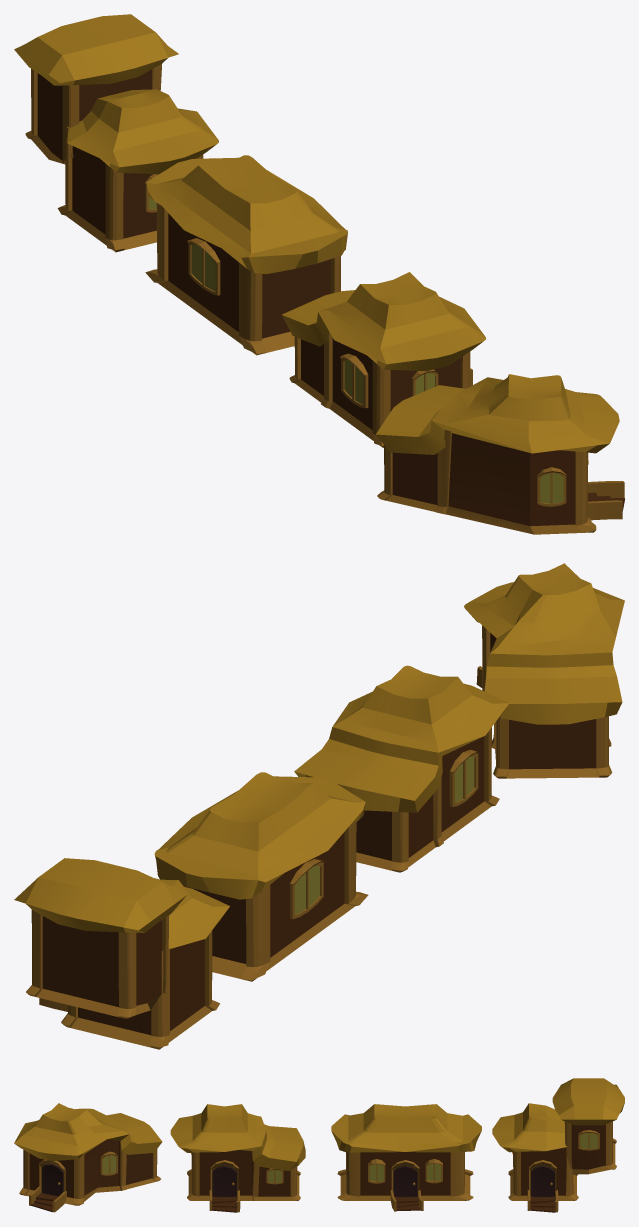
File: crowIslandHouses.fbx
The picture shows the model from 3 angles, top to bottom: view 1: azimuth 30°, elevation 25°; view 2: azimuth 150°, elevation 25°; view 3: azimuth 270°, elevation 25°; orthographic projection. The views are drawn at different scales.
Visible parts, largest first — view 1: house3, house4, house2, house1; view 2: house4, house2, house1, house3; view 3: house2, house4, house3, house1.
Boxes of the visible parts, <box> form: house3: <box>376,374,624,534</box>; house4: <box>14,14,218,252</box>; house2: <box>145,155,347,355</box>; house1: <box>282,272,485,447</box>; house4: <box>14,858,229,1049</box>; house2: <box>154,772,368,981</box>; house1: <box>294,665,509,872</box>; house3: <box>464,563,624,778</box>; house2: <box>331,1104,481,1211</box>; house4: <box>492,1078,624,1212</box>; house3: <box>14,1103,162,1212</box>; house1: <box>170,1104,305,1212</box>.
Bounding box in the file's own units: 672 × 536 × 3041.
